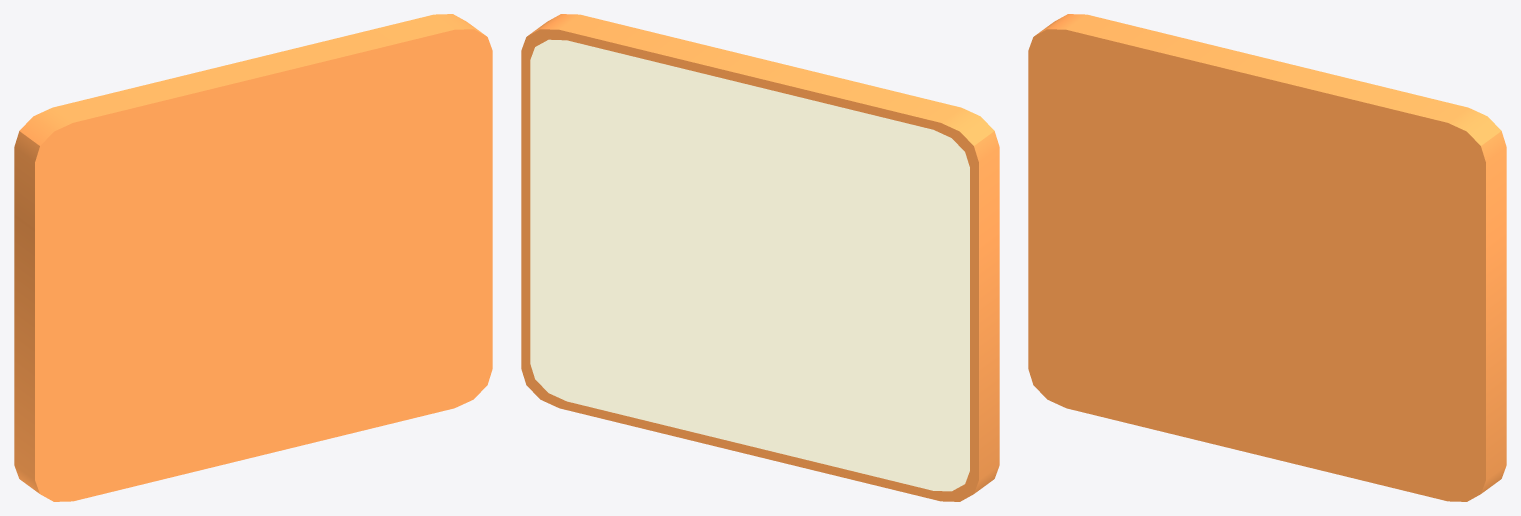
The model's file is displayPanel-popUp.glb.
3 views of the same model, side by side, from view 1: azimuth 30°, elevation 25°; view 2: azimuth 150°, elevation 25°; view 3: azimuth 330°, elevation 25° (orthographic).
Visible parts, largest first — view 1: Cube.012; view 2: Cube.012; view 3: Cube.012.
Part boxes in pixels (bbox=[...]): Cube.012: bbox=[14, 14, 492, 501]; Cube.012: bbox=[521, 14, 999, 501]; Cube.012: bbox=[1028, 14, 1506, 501].
Bounding box in the file's own units: 1.19 × 0.9416 × 0.0937.
Materials: 1 (1 with a texture image).
